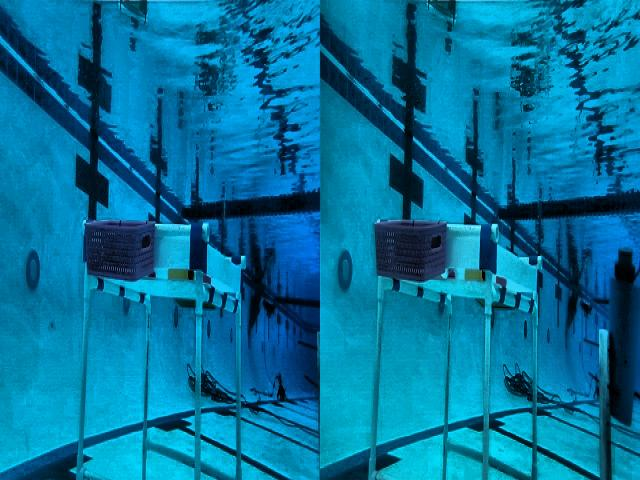octagon_table: (367, 212, 542, 480), (76, 215, 246, 480)
